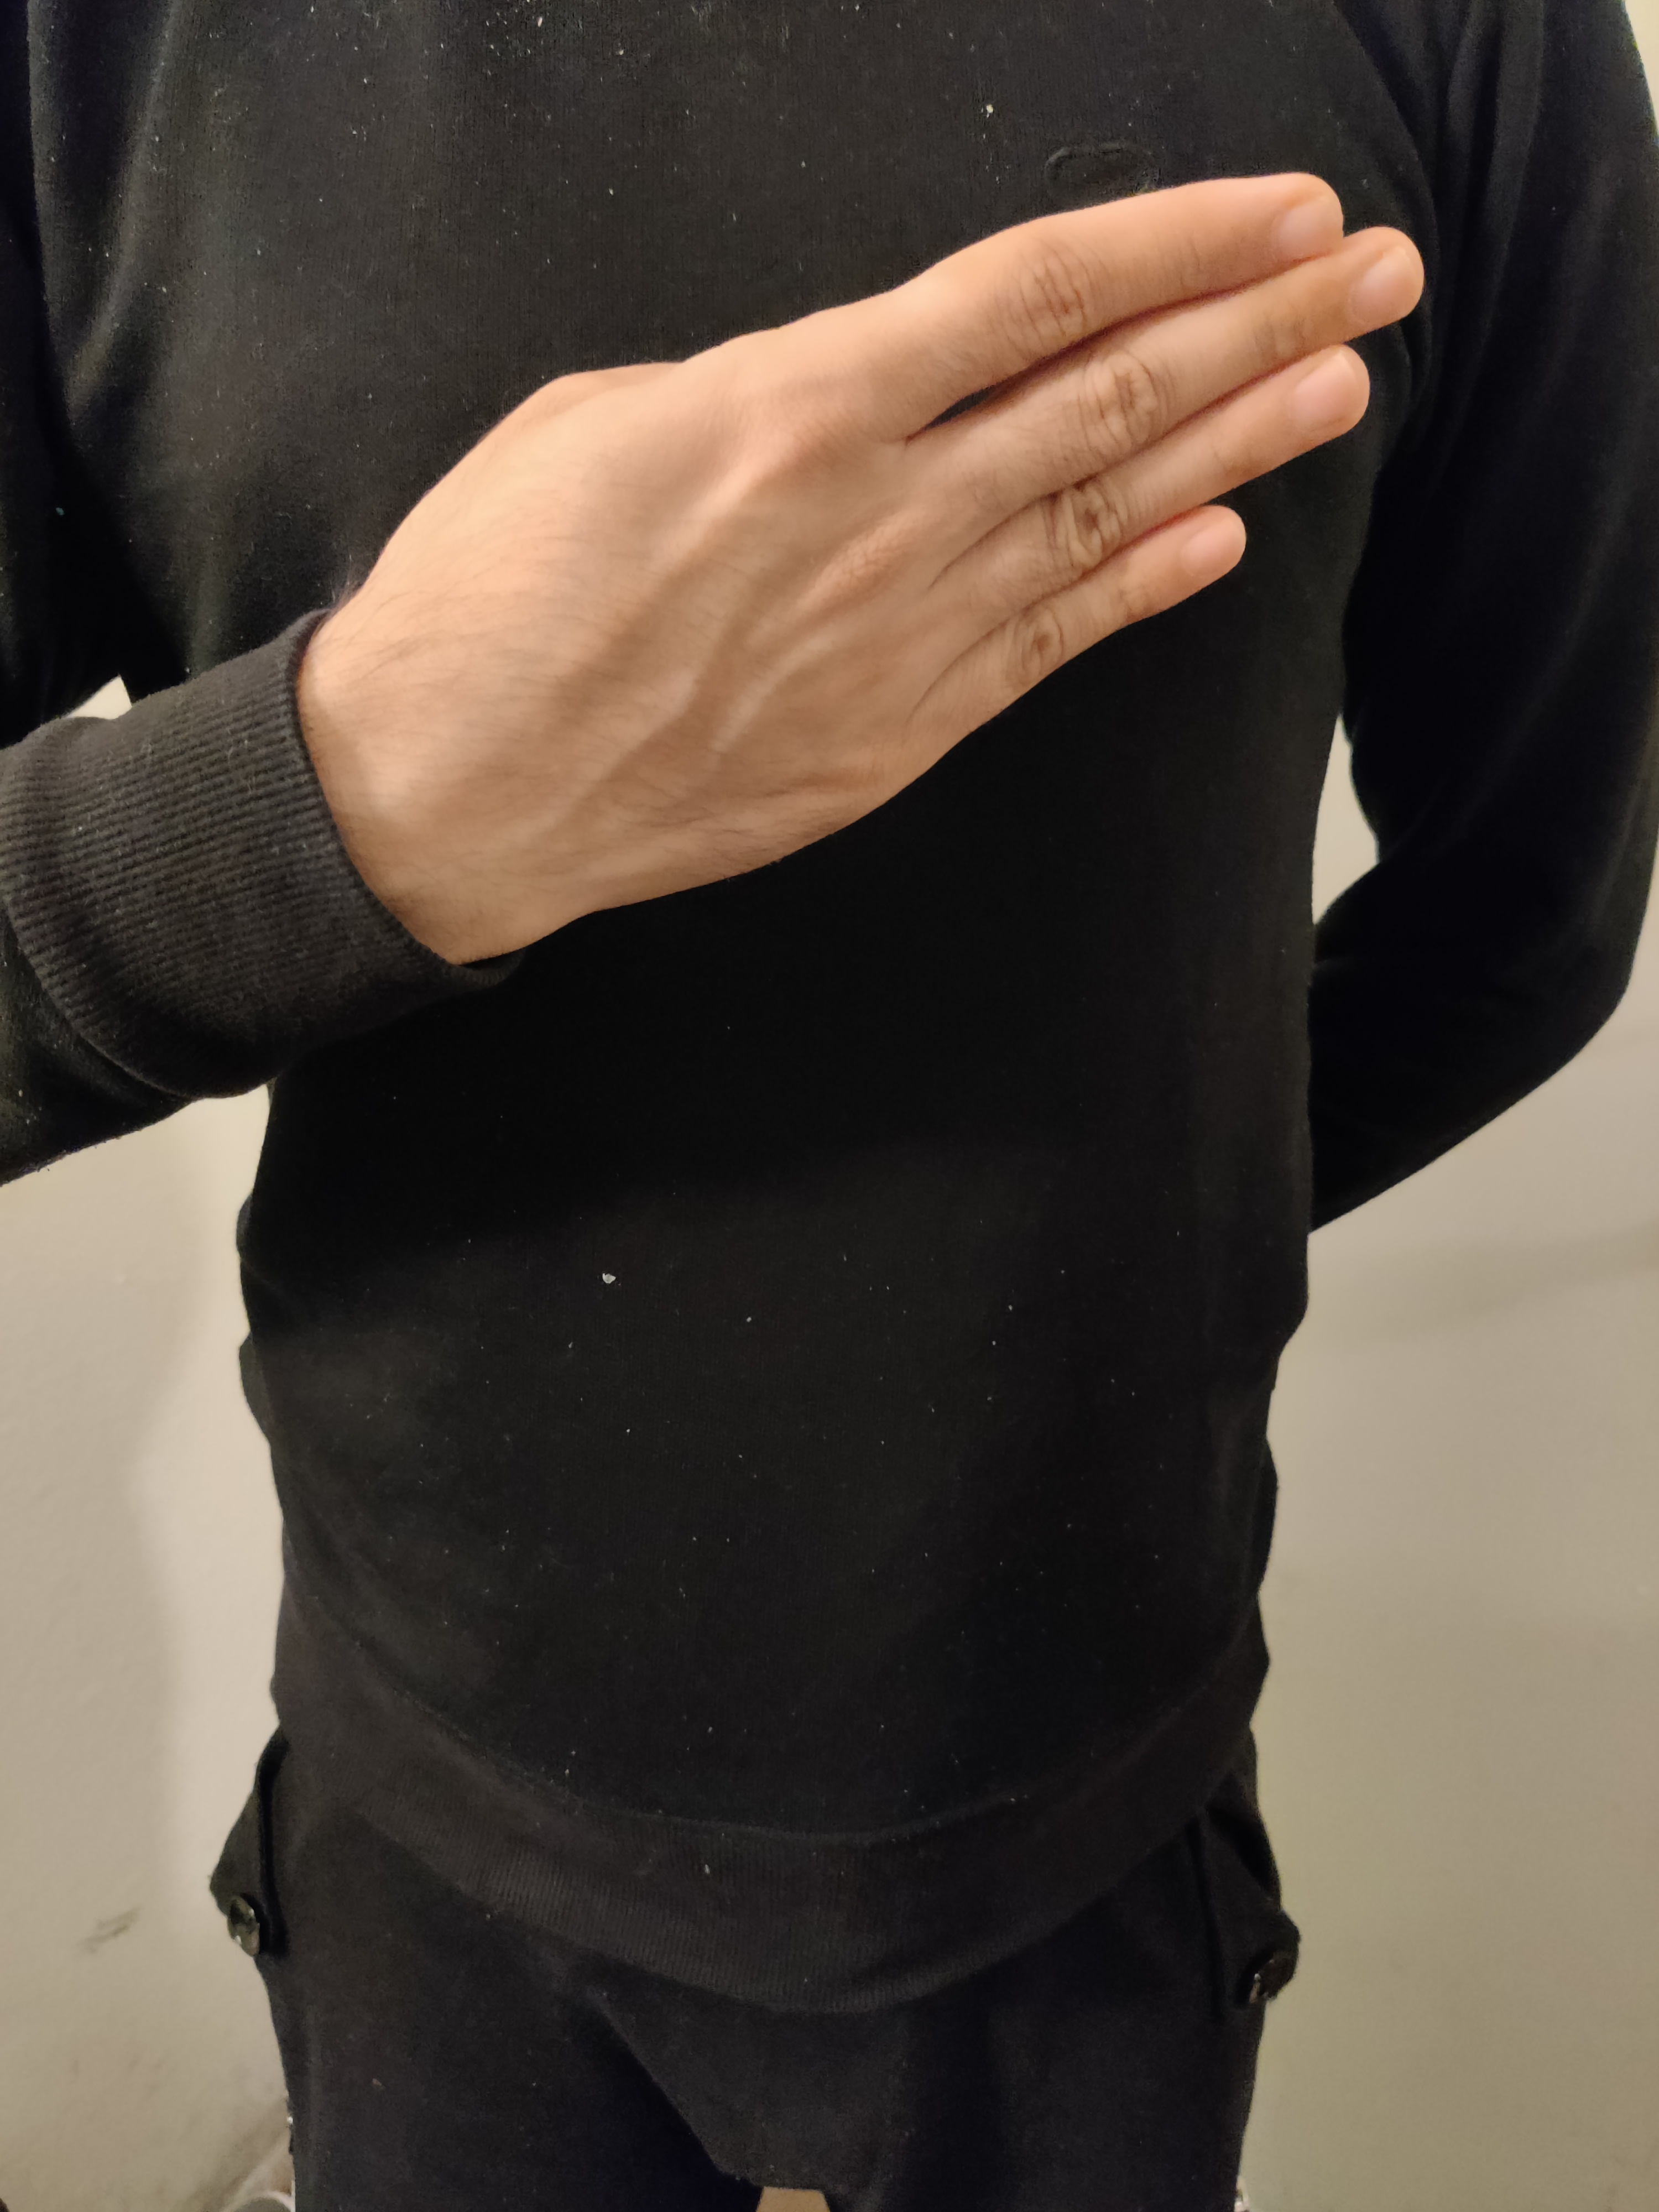left: (40, 96, 1518, 1050)
